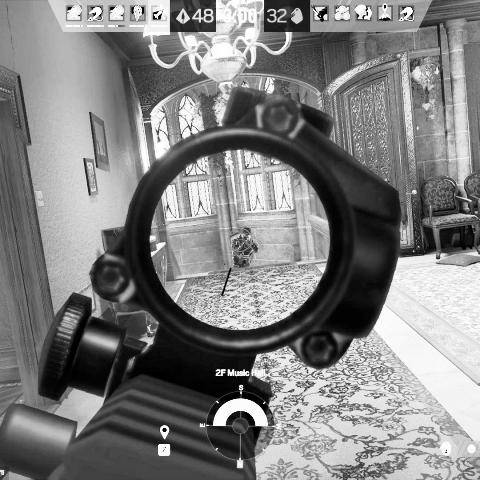Character: (227, 226, 261, 268)
Head: (241, 226, 252, 240)
